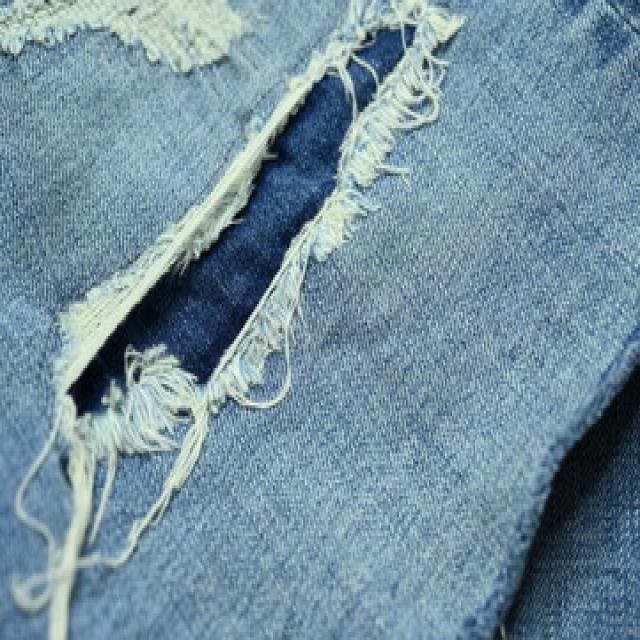Hole: (17, 1, 445, 572)
